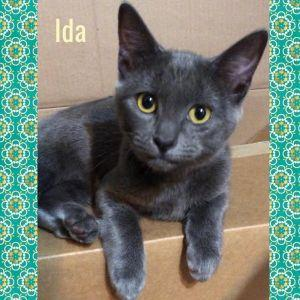rblue: (101, 3, 275, 177)
